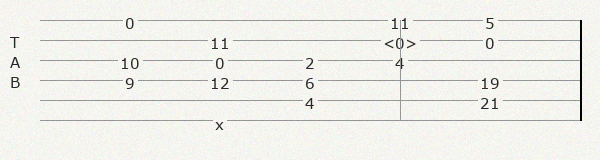0: (125, 13, 139, 28), (215, 53, 229, 68), (485, 33, 499, 48)
10: (120, 53, 144, 68)
11: (210, 33, 234, 48), (390, 13, 414, 28)
12: (210, 73, 234, 88)
19: (480, 73, 504, 88)
2: (305, 53, 319, 68)
21: (480, 93, 504, 108)
4: (305, 93, 319, 108), (395, 53, 409, 68)
5: (485, 13, 499, 28)
6: (305, 73, 319, 88)
9: (125, 73, 139, 88)
harmonic: (383, 33, 421, 48)
x: (215, 114, 228, 126)
